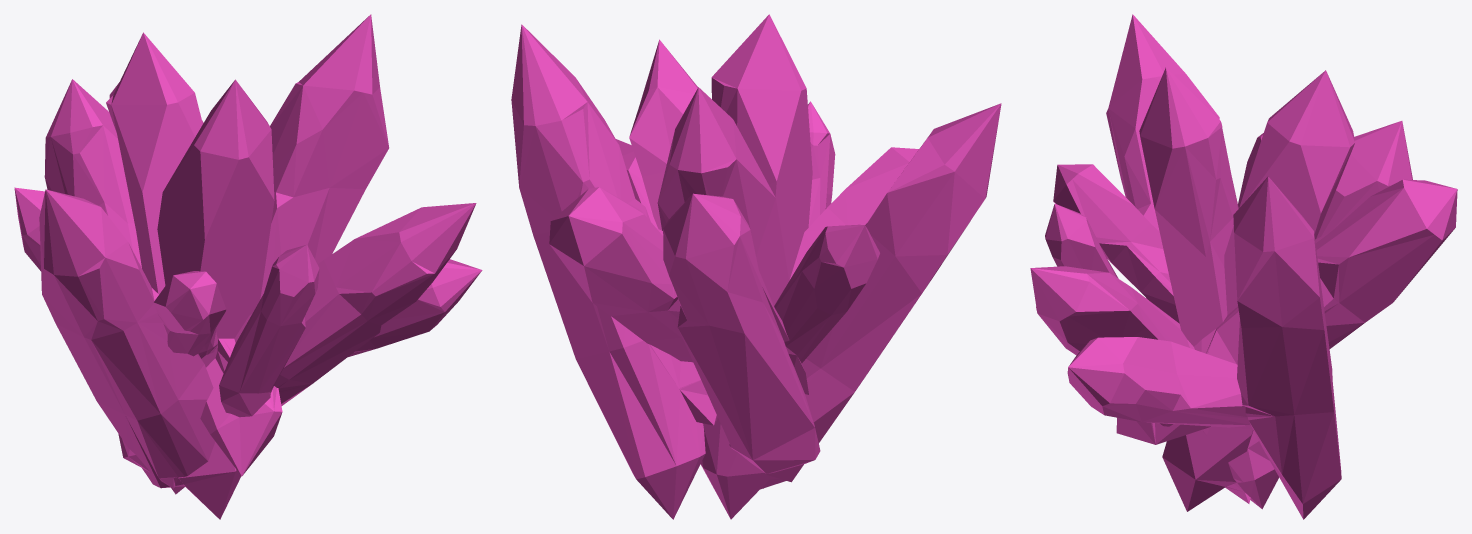
The model's file is SM_CrystalsFormation_B.fbx.
3 renders of one model, left to right at view 1: azimuth 30°, elevation 25°; view 2: azimuth 150°, elevation 25°; view 3: azimuth 270°, elevation 25°, orthographic. The views are drawn at different scales.
Visible parts, largest first — view 1: SM_CrystalsFormation_B; view 2: SM_CrystalsFormation_B; view 3: SM_CrystalsFormation_B.
Part boxes in pixels (x1=…): SM_CrystalsFormation_B: x1=14, y1=14, x2=482, y2=519; SM_CrystalsFormation_B: x1=511, y1=14, x2=1001, y2=519; SM_CrystalsFormation_B: x1=1030, y1=14, x2=1457, y2=519.
Size of the model in its own units: 81.75 by 86.45 by 74.76.
